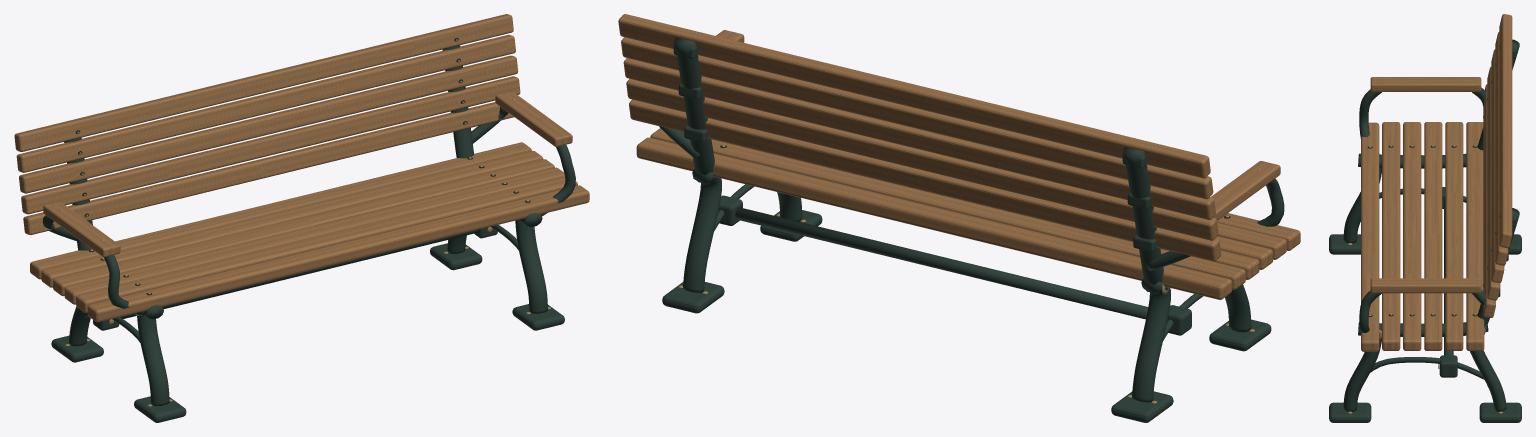
File: bench.glb
3 renders of one model, left to right at view 1: azimuth 30°, elevation 25°; view 2: azimuth 150°, elevation 25°; view 3: azimuth 270°, elevation 25°, orthographic. The views are drawn at different scales.
Visible parts, largest first — view 1: Bench oiled oak, Bench mellow oak, Bench evergreen cast metal; view 2: Bench oiled oak, Bench mellow oak, Bench evergreen cast metal; view 3: Bench oiled oak, Bench mellow oak, Bench evergreen cast metal, Bench recessed hardware, Bench brushed bronze.
Part boxes in pixels (x1=…): Bench oiled oak: x1=14, y1=14, x2=589, y2=322; Bench mellow oak: x1=16, y1=34, x2=577, y2=312; Bench evergreen cast metal: x1=42, y1=45, x2=575, y2=422; Bench oiled oak: x1=618, y1=14, x2=1300, y2=299; Bench mellow oak: x1=621, y1=37, x2=1286, y2=289; Bench evergreen cast metal: x1=659, y1=37, x2=1284, y2=422; Bench oiled oak: x1=1361, y1=14, x2=1512, y2=351; Bench mellow oak: x1=1382, y1=32, x2=1508, y2=350; Bench evergreen cast metal: x1=1329, y1=39, x2=1521, y2=422; Bench recessed hardware: x1=1367, y1=46, x2=1500, y2=316; Bench brushed bronze: x1=1348, y1=47, x2=1502, y2=413.
Bounding box in the file's own units: 2.35 × 1.04 × 0.87.
5 materials, 2 textured.
